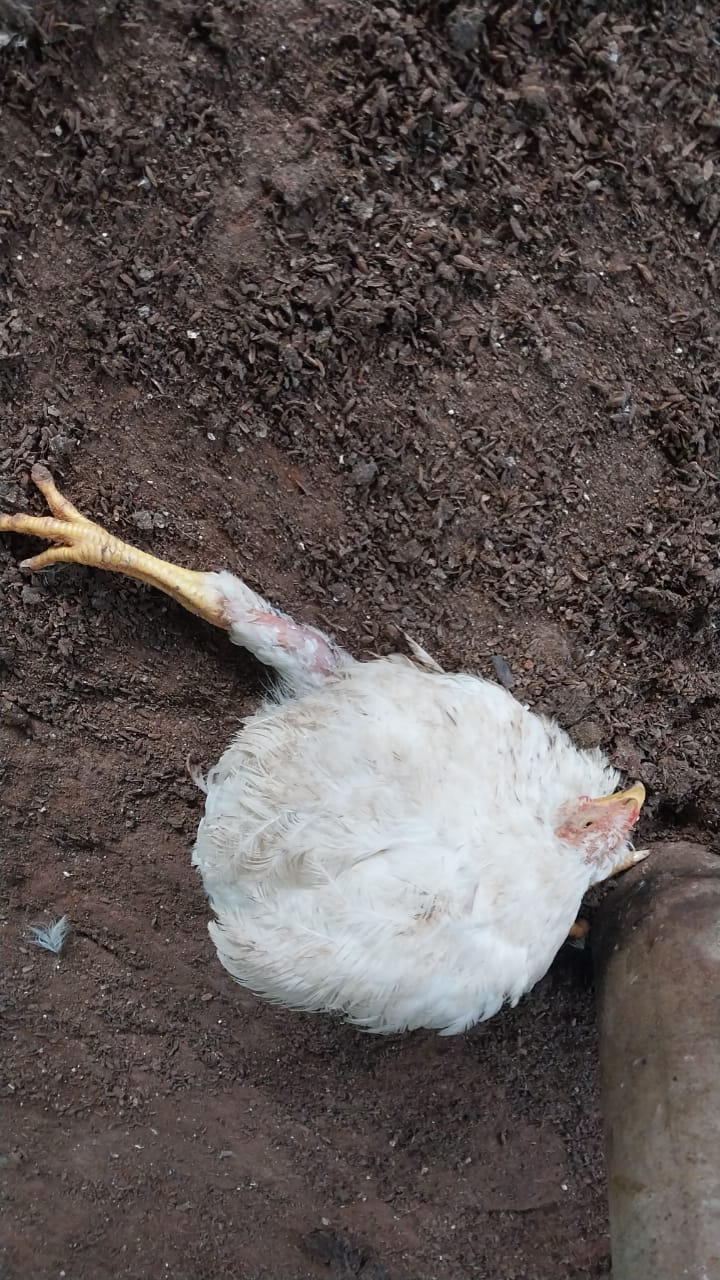Unhealthy: (10, 427, 651, 1058)
